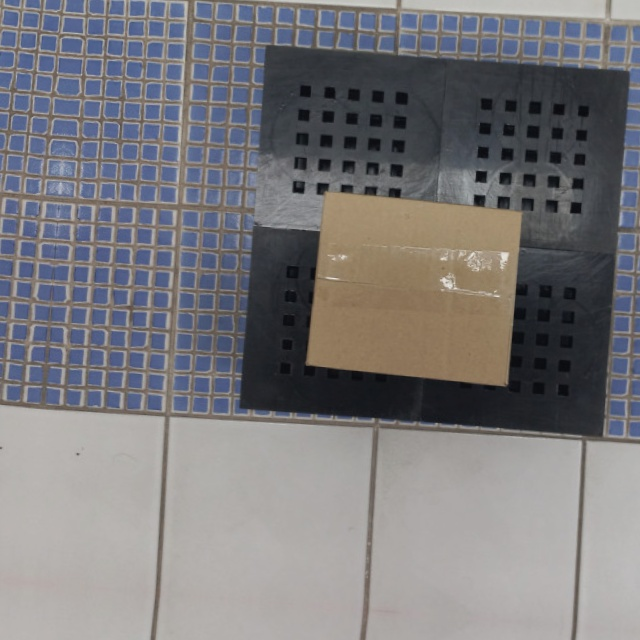box: (305, 188, 524, 393)
pallet: (220, 30, 640, 448)
